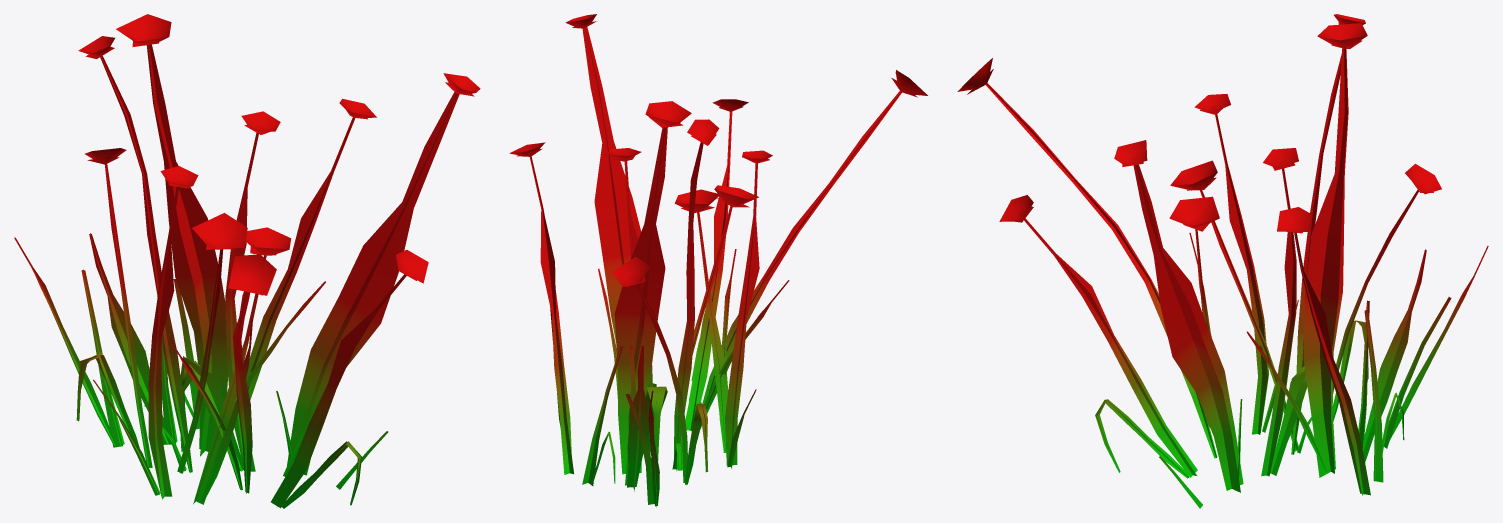
File: White Everlasting_LOD3_Var7_ucvobbbia.fbx
The picture shows the model from 3 angles, left to right: view 1: azimuth 30°, elevation 25°; view 2: azimuth 150°, elevation 25°; view 3: azimuth 270°, elevation 25°; orthographic projection. The views are drawn at different scales.
Parts seen in each view (by area): view 1: _e90a_Var7_LOD3; view 2: _e90a_Var7_LOD3; view 3: _e90a_Var7_LOD3.
Part boxes in pixels (x1,y1,x2,y2): _e90a_Var7_LOD3: (14, 14, 480, 508); _e90a_Var7_LOD3: (509, 14, 927, 507); _e90a_Var7_LOD3: (957, 14, 1488, 508).
Size of the model in its own units: 42.51 by 54.19 by 61.65.
